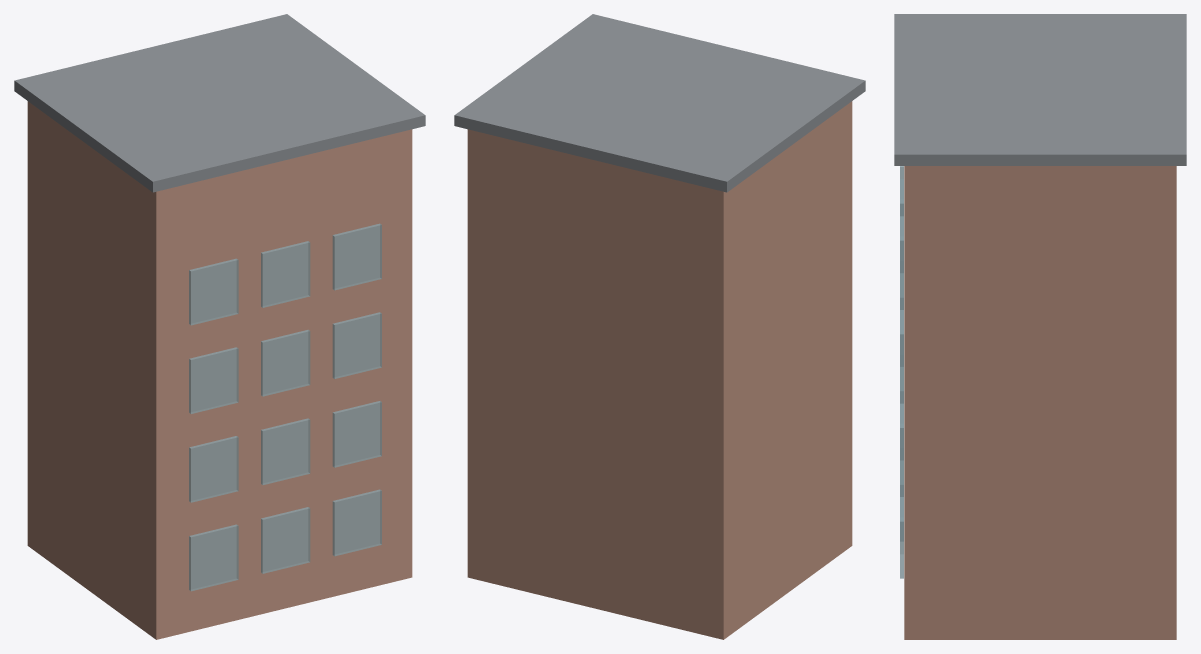
Rendered from building_small_02.glb.
3 views of the same model, side by side, from view 1: azimuth 30°, elevation 25°; view 2: azimuth 150°, elevation 25°; view 3: azimuth 270°, elevation 25° (orthographic). The views are drawn at different scales.
Visible parts, largest first — view 1: Mass.001, Roof.001, Win_0_2.001, Win_1_0.001, Win_1_1.001, Win_1_2.001, Win_2_1.001, Win_2_2.001, Win_3_0, Win_3_2, Win_0_0.001, Win_0_1.001 (+2 smaller); view 2: Mass.001, Roof.001; view 3: Mass.001, Roof.001.
Boxes of the visible parts, x1,y1,x2,y2 form: Mass.001: [27, 101, 412, 639]; Roof.001: [14, 14, 425, 192]; Win_0_2.001: [332, 489, 381, 556]; Win_1_0.001: [189, 436, 238, 502]; Win_1_1.001: [261, 418, 310, 484]; Win_1_2.001: [332, 401, 381, 467]; Win_2_1.001: [261, 329, 310, 396]; Win_2_2.001: [332, 312, 381, 378]; Win_3_0: [189, 258, 238, 325]; Win_3_2: [332, 223, 381, 290]; Win_0_0.001: [189, 524, 238, 591]; Win_0_1.001: [261, 507, 310, 573]; Mass.001: [467, 101, 852, 639]; Roof.001: [454, 14, 865, 192]; Mass.001: [904, 166, 1176, 639]; Roof.001: [894, 14, 1186, 165].
Bounding box in the file's own units: 6.6 × 10.73 × 5.8.
